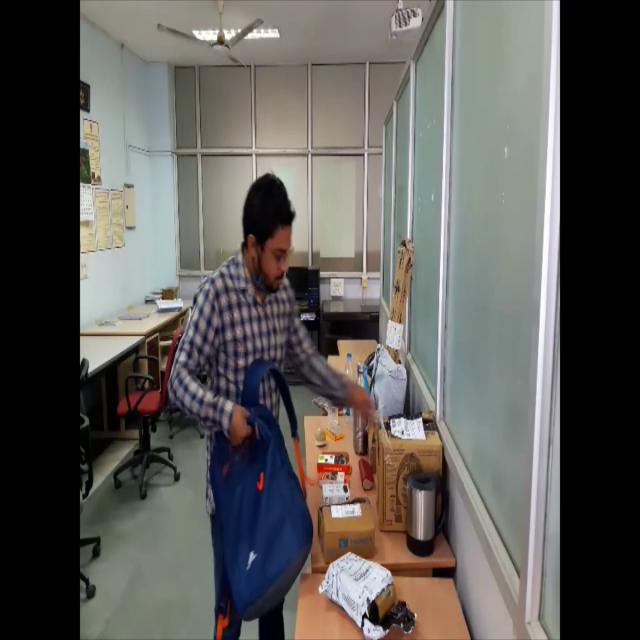normal: (171, 160, 337, 640)
